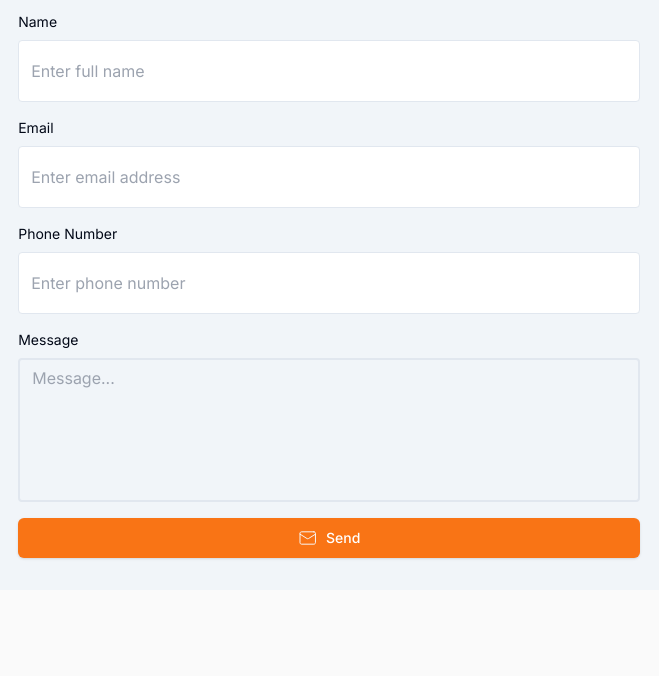
Test: contactForm Component › should validate email format
Type "invalid-email@kkk" into the field with placeholder "Enter email address".
click(329, 177); type("invalid-email@kkk")  # box [18,146,640,208]
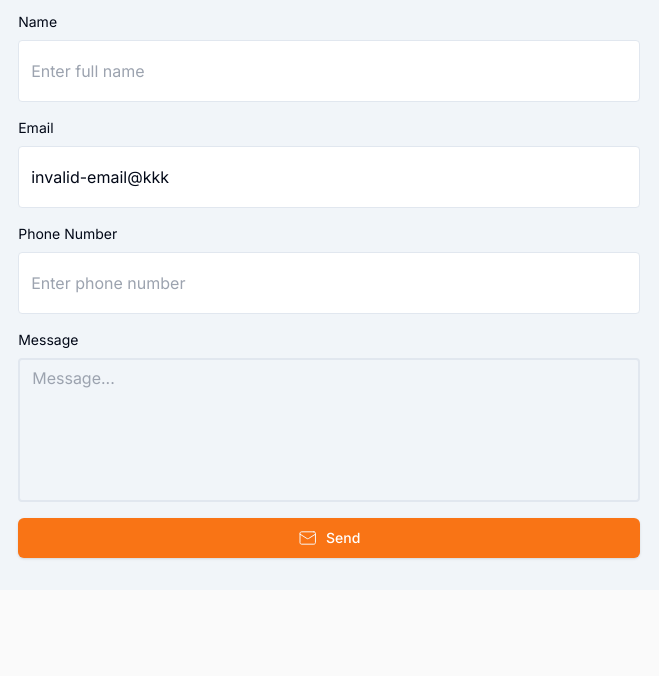
Click the button "Send".
click(329, 538)  # box [18,518,640,558]
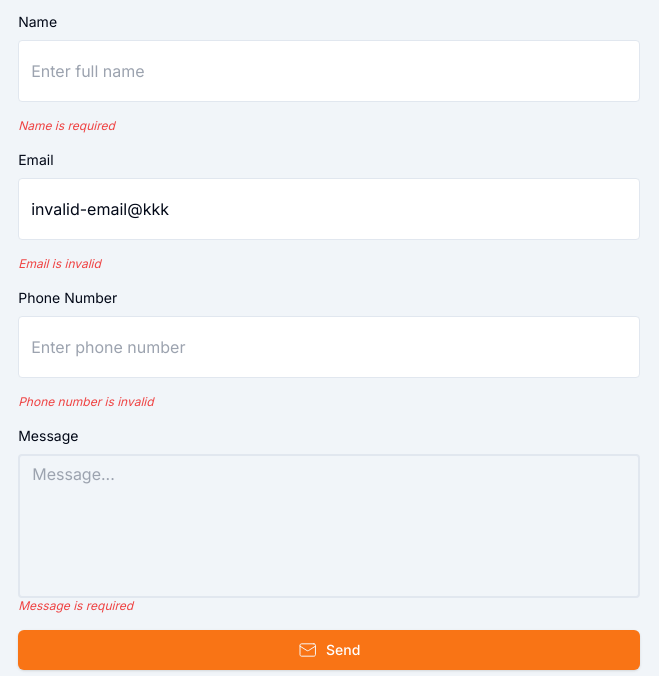
Now the text "Email is invalid" is shown, box [18,256,101,271]
